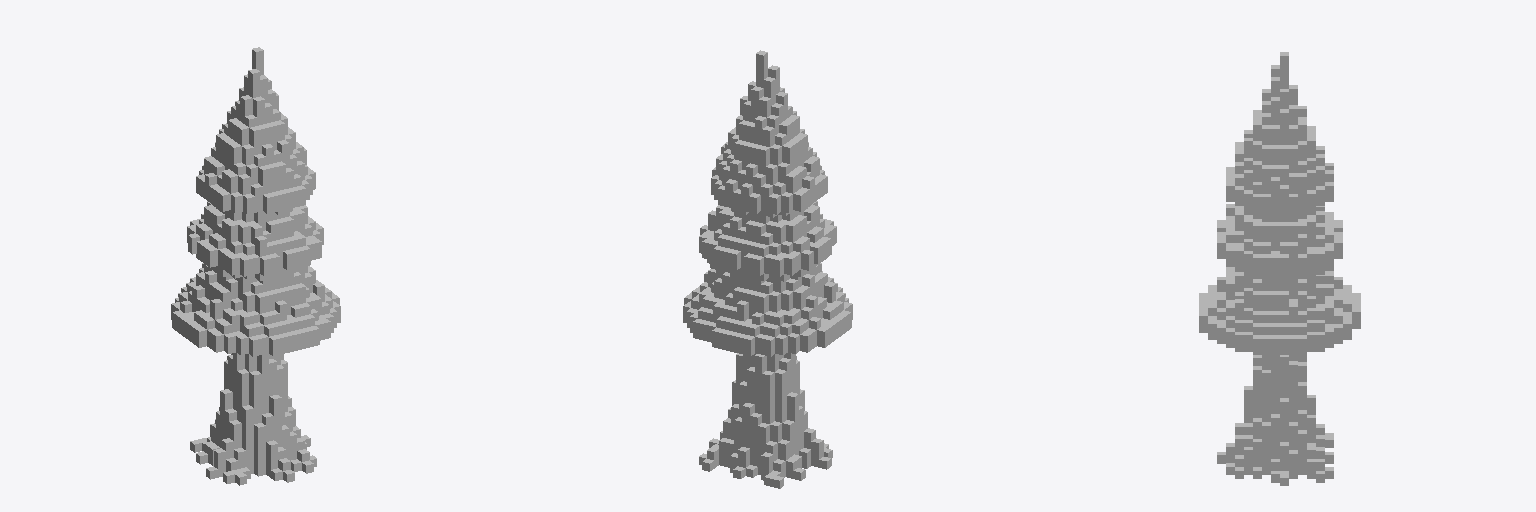
The model's file is Tree_V2_Snow.obj.
The picture shows the model from 3 angles: view 1: azimuth 30°, elevation 25°; view 2: azimuth 150°, elevation 25°; view 3: azimuth 270°, elevation 25°; orthographic projection.
Visible parts, largest first — view 1: Tree_V2_Snow; view 2: Tree_V2_Snow; view 3: Tree_V2_Snow.
Part boxes in pixels (x1,y1,x2,y2): Tree_V2_Snow: (171, 47, 340, 485); Tree_V2_Snow: (683, 50, 852, 488); Tree_V2_Snow: (1199, 52, 1360, 485).
Size of the model in its own units: 18 by 50 by 18.